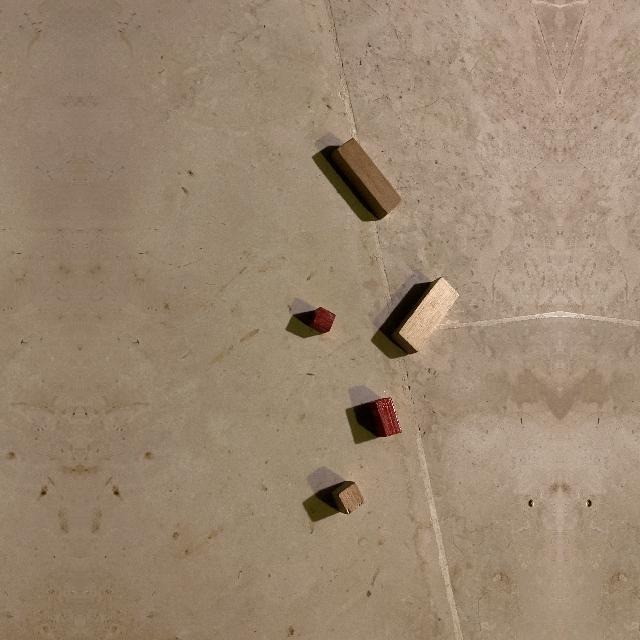cube: (334, 482, 364, 516)
jenga: (327, 138, 402, 220), (390, 277, 459, 354)
red block: (368, 397, 402, 437)
red cube: (309, 307, 336, 333)
